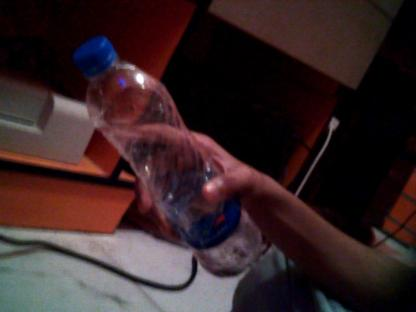Plastic Bottle: (71, 34, 275, 284)
